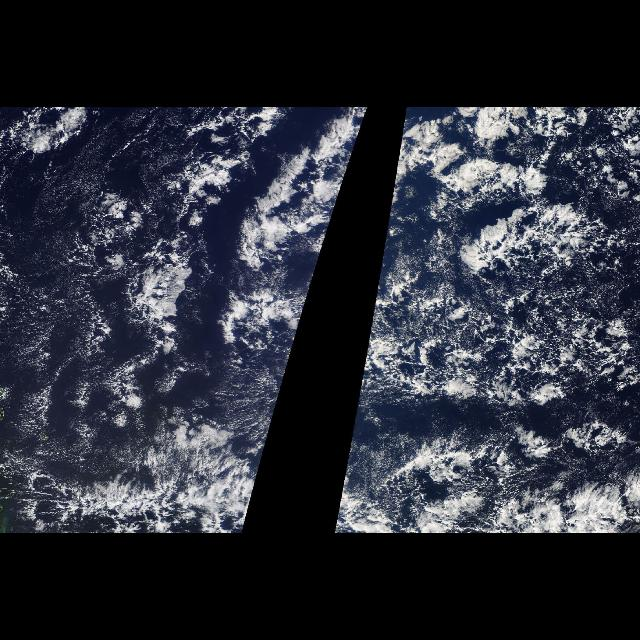Fish: (17, 429, 253, 529)
Gravel: (354, 205, 640, 429)
Sugar: (363, 260, 634, 410)
